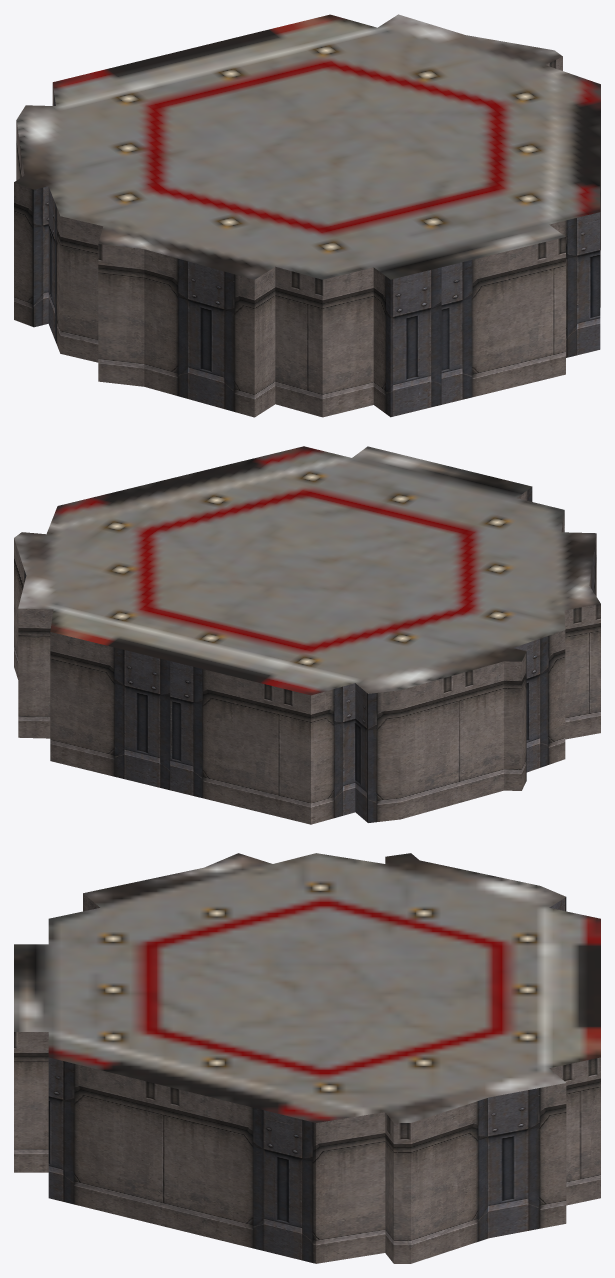
The model's file is bsealed_medium_58.glb.
The picture shows the model from 3 angles, top to bottom: view 1: azimuth 30°, elevation 25°; view 2: azimuth 150°, elevation 25°; view 3: azimuth 270°, elevation 25°; orthographic projection. The views are drawn at different scales.
Parts seen in each view (by area): view 1: buildings/saxarba/bsealed_medium/bsealed_medium_58; view 2: buildings/saxarba/bsealed_medium/bsealed_medium_58; view 3: buildings/saxarba/bsealed_medium/bsealed_medium_58.
Boxes of the visible parts, x1=… form: buildings/saxarba/bsealed_medium/bsealed_medium_58: x1=14, y1=14, x2=600, y2=417; buildings/saxarba/bsealed_medium/bsealed_medium_58: x1=14, y1=446, x2=600, y2=824; buildings/saxarba/bsealed_medium/bsealed_medium_58: x1=14, y1=853, x2=600, y2=1263.
Size of the model in its own units: 74 by 18 by 68.
